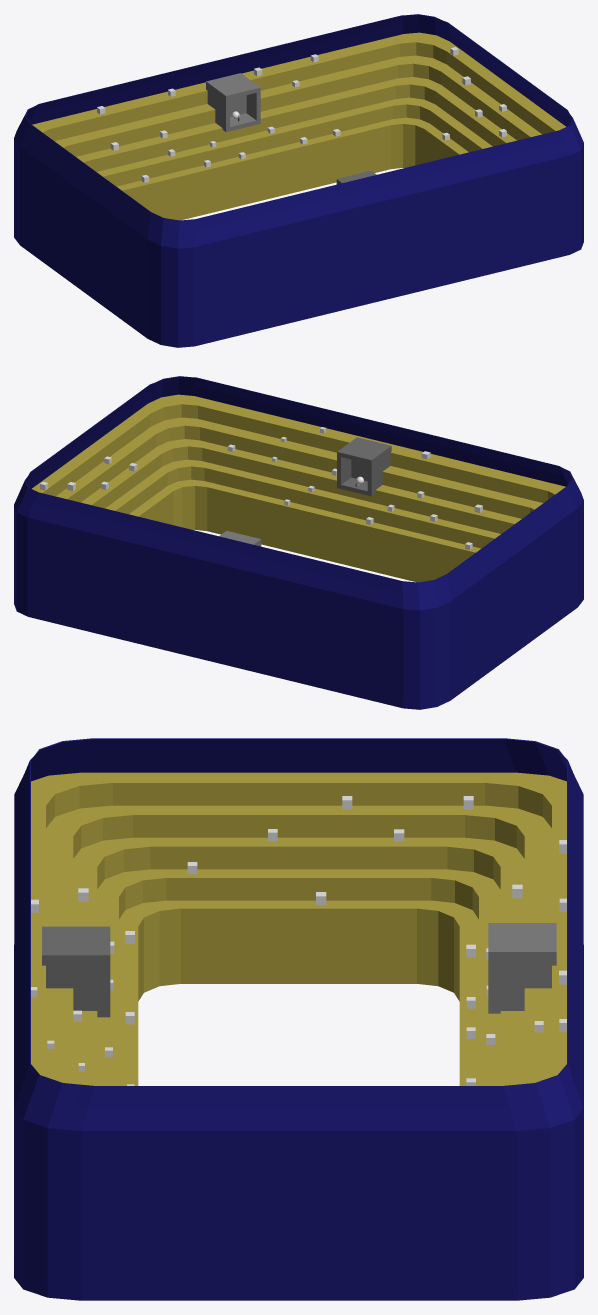
The model's file is stadium.fbx.
3 views of the same model, one above another, from view 1: azimuth 30°, elevation 25°; view 2: azimuth 150°, elevation 25°; view 3: azimuth 270°, elevation 25° (orthographic). The views are drawn at different scales.
Parts seen in each view (by area): view 1: Plane, Cube; view 2: Plane, Cube.001; view 3: Plane, Cube, Cube.001.
Boxes of the visible parts, box(x1,y1,x2,y2) form: Plane: box(14, 14, 583, 347); Cube: box(206, 73, 260, 132); Plane: box(14, 376, 583, 709); Cube.001: box(337, 437, 391, 496); Plane: box(14, 738, 583, 1300); Cube: box(488, 923, 556, 1013); Cube.001: box(42, 926, 110, 1017).
Bounding box in the file's own units: 607 × 165 × 407.
